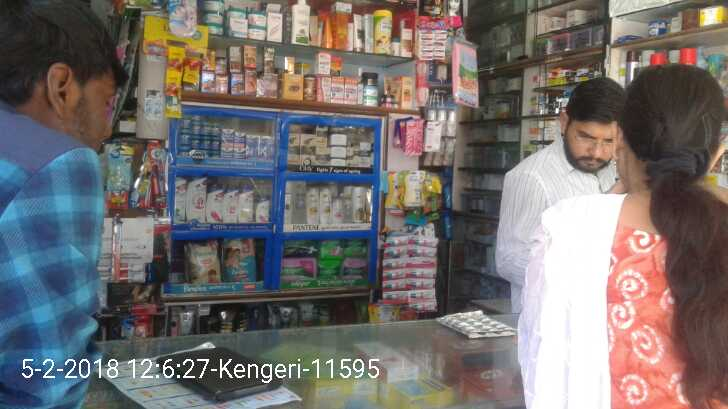beauty: (186, 177, 207, 222), (238, 184, 257, 222), (351, 187, 368, 223), (208, 185, 224, 222), (355, 140, 374, 170), (223, 186, 239, 221), (293, 181, 305, 225), (318, 184, 329, 226), (300, 132, 314, 164), (287, 131, 300, 163), (330, 195, 344, 224), (308, 185, 318, 225), (256, 198, 269, 225), (317, 145, 331, 170), (316, 126, 329, 147)
pharmacy: (182, 241, 220, 286), (222, 237, 257, 283), (280, 256, 318, 285), (339, 256, 369, 281), (320, 241, 368, 255), (317, 257, 339, 284), (259, 135, 275, 161), (246, 130, 260, 159), (192, 135, 214, 150), (218, 127, 233, 143), (200, 121, 216, 136), (219, 143, 234, 158), (180, 113, 194, 128), (234, 144, 246, 158), (233, 129, 245, 142), (179, 130, 189, 145), (195, 123, 203, 135)
